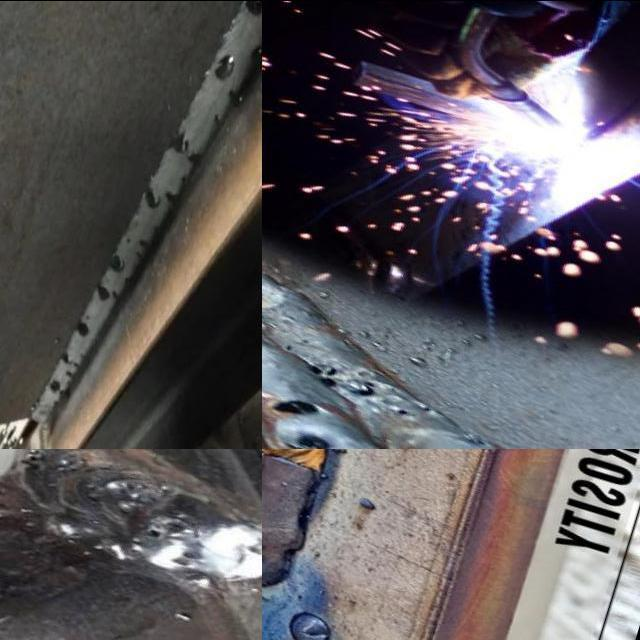defect: (262, 396, 324, 419), (141, 517, 200, 541), (304, 361, 343, 390), (279, 431, 335, 448), (164, 548, 207, 569), (166, 124, 194, 156), (214, 51, 238, 86), (59, 350, 85, 380), (348, 378, 383, 397), (94, 281, 120, 304), (73, 311, 92, 340), (142, 188, 161, 212), (109, 251, 124, 277), (243, 0, 262, 20), (227, 89, 245, 110), (164, 188, 181, 205), (48, 378, 65, 395), (135, 238, 147, 261), (464, 434, 487, 446), (186, 150, 201, 167), (250, 44, 262, 62), (279, 342, 294, 353), (211, 112, 221, 128), (293, 338, 310, 347), (394, 408, 410, 415), (178, 175, 188, 185), (124, 234, 133, 244), (421, 406, 431, 412)
